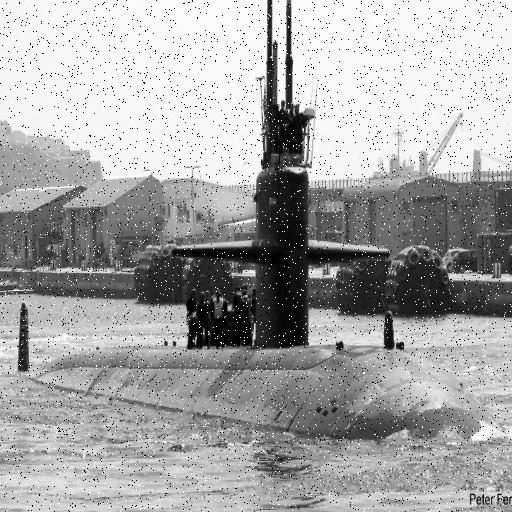submarine: (20, 1, 505, 440)
